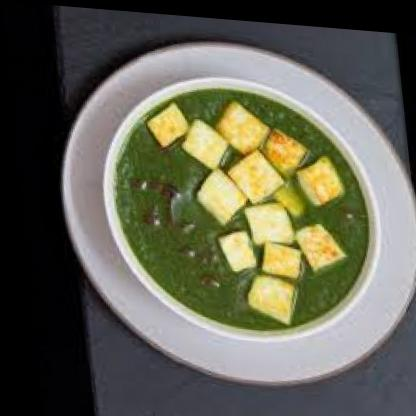palak_paneer: (101, 77, 372, 333)
